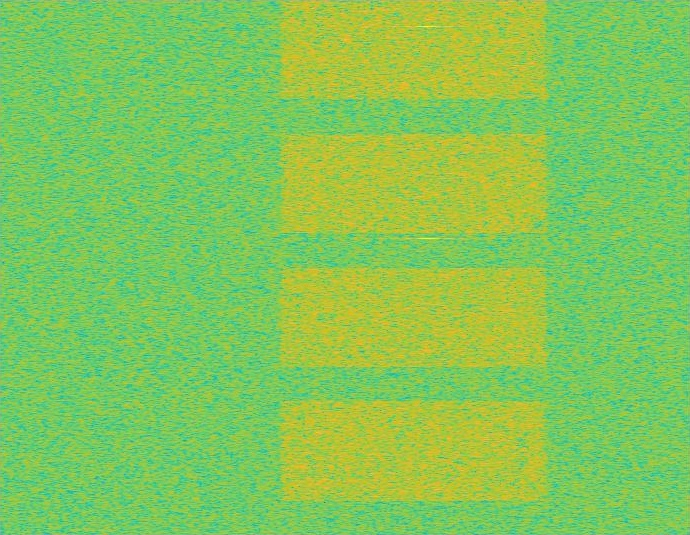5G: (276, 0, 552, 534)
Radar: (421, 0, 435, 534)
